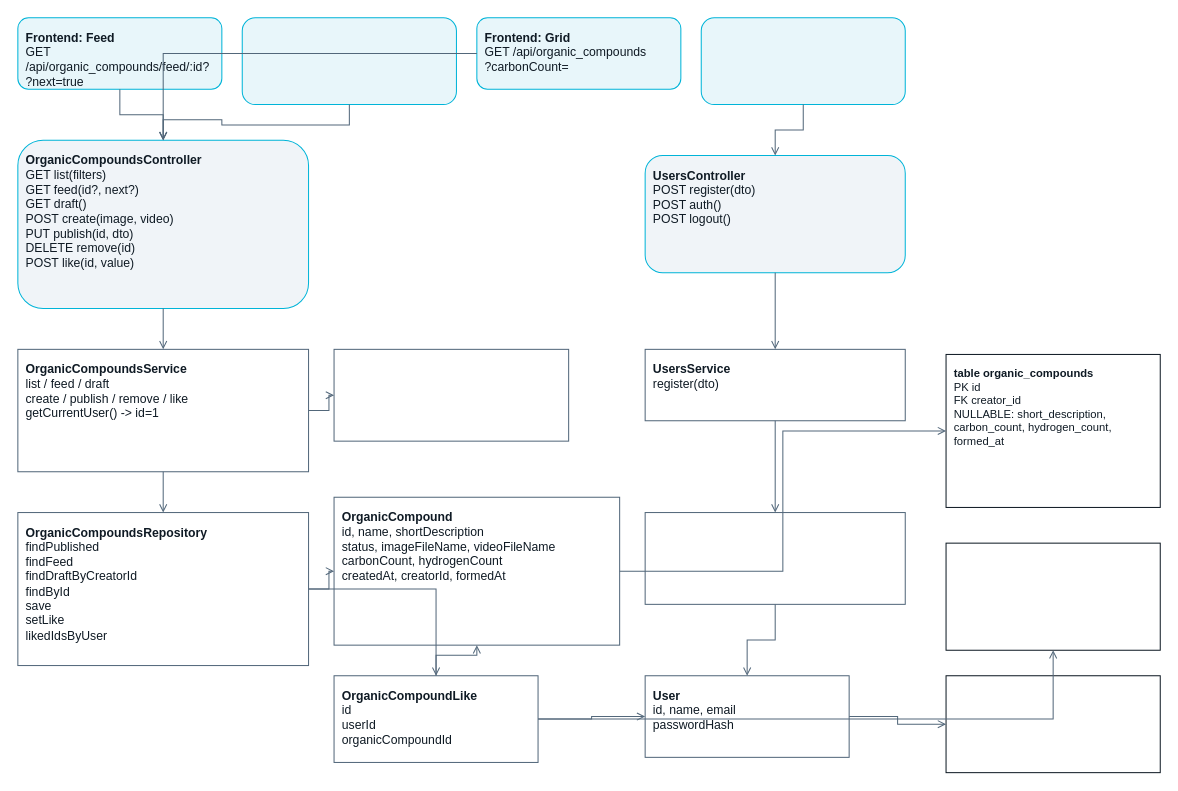
The diagram is 1178 pixels wide and 791 high, and some of its shapes have lost their labels. Each missing label, with the centre of its shape:
"Frontend: Add POST /api/organic_compounds GET /draft PUT /:id/publish" belongs at pixel 348 61.
"Frontend: Login POST /api/users/register POST /auth POST /logout" belongs at pixel 802 61.
"MinioService upload(file, generatedName) publicUrl(fileName)" belongs at pixel 451 394.
"table organic_compound_likes PK id FK user_id FK organic_compound_id NO UNIQUE" belongs at pixel 1052 596.
"table users PK id name email password_hash" belongs at pixel 1052 724.
"UsersRepository findByEmail create save" belongs at pixel 774 558.
